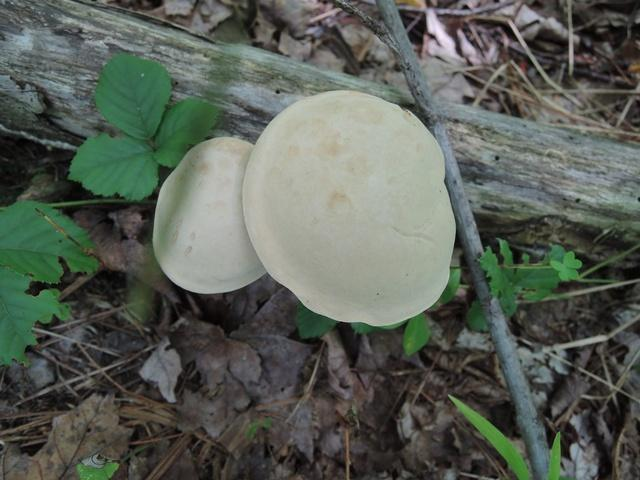Edible Mushroom: (241, 88, 457, 328), (151, 135, 267, 294)
